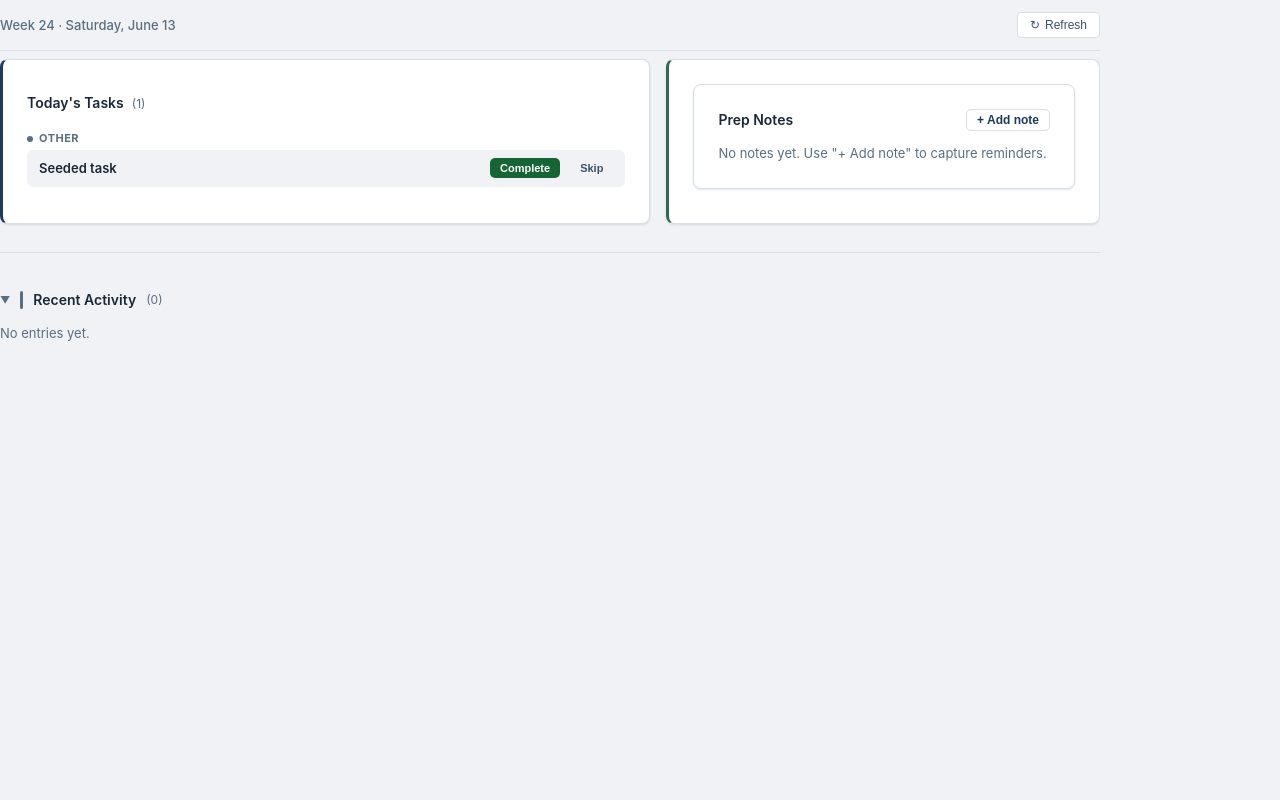
Test: DashboardView — task modal dirty-state close guard (Task 9.14) › dirty Esc opens the DiscardConfirmDialog
Click the button with aria-label "edit seeded task": [78, 168] box [27,150,625,187]
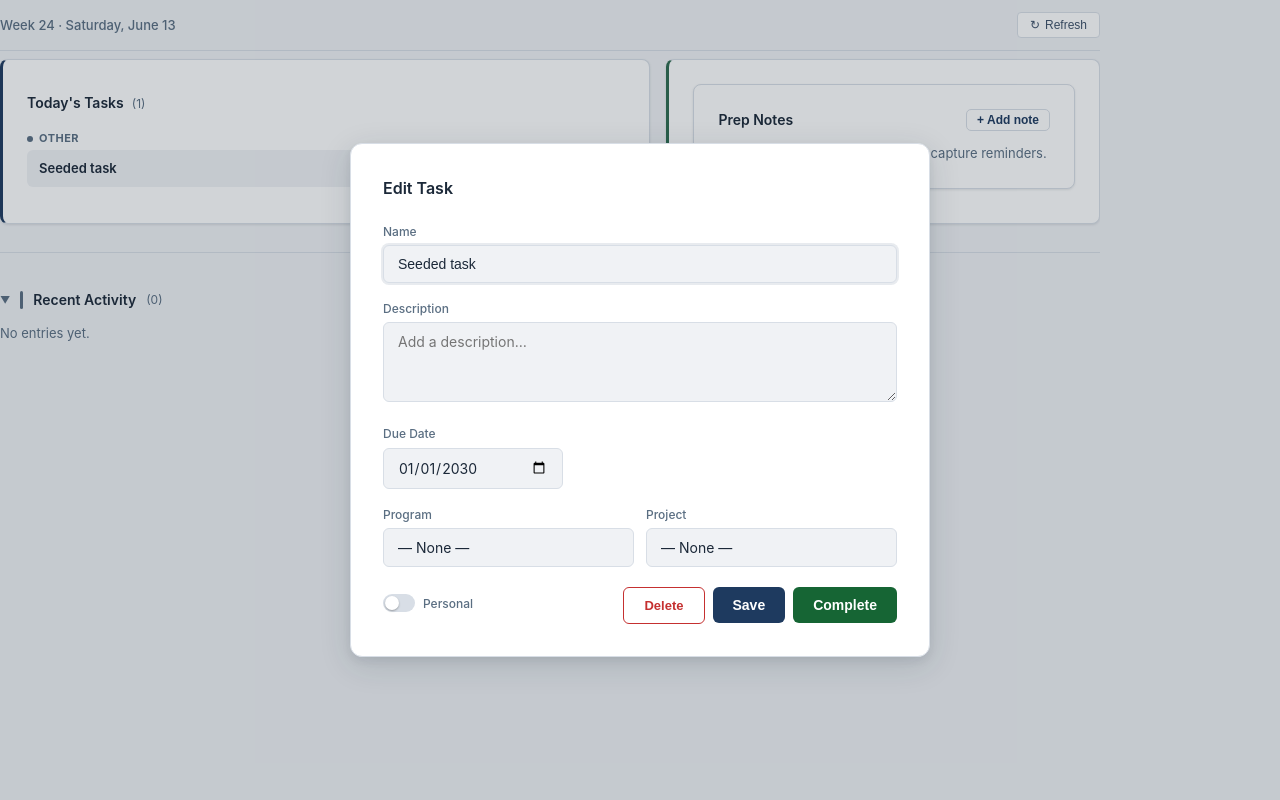
Replace the text in the field showing "Seeded task" with "Seeded task edited": [640, 264] box [383,245,897,283]
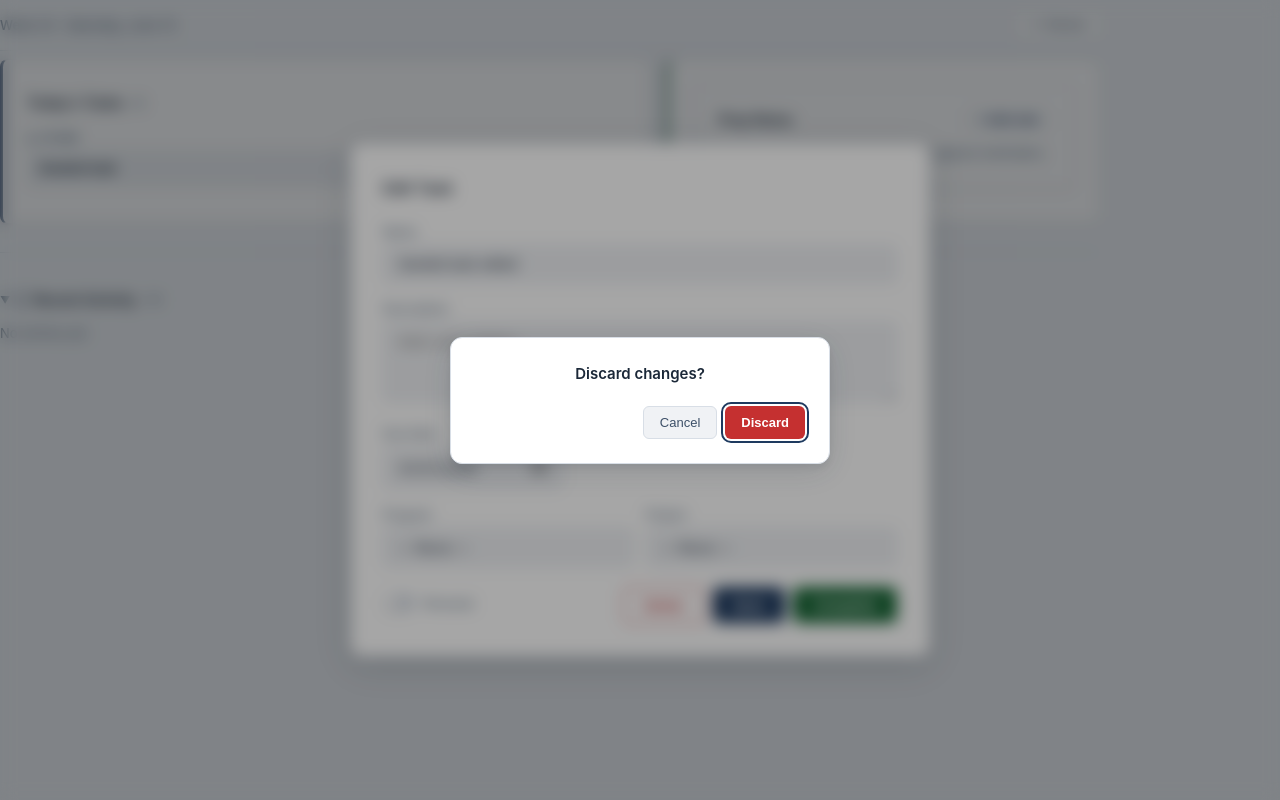
Check: the dialog "Discard changes? Cancel Discard" is shown, box [450,336,830,464]
